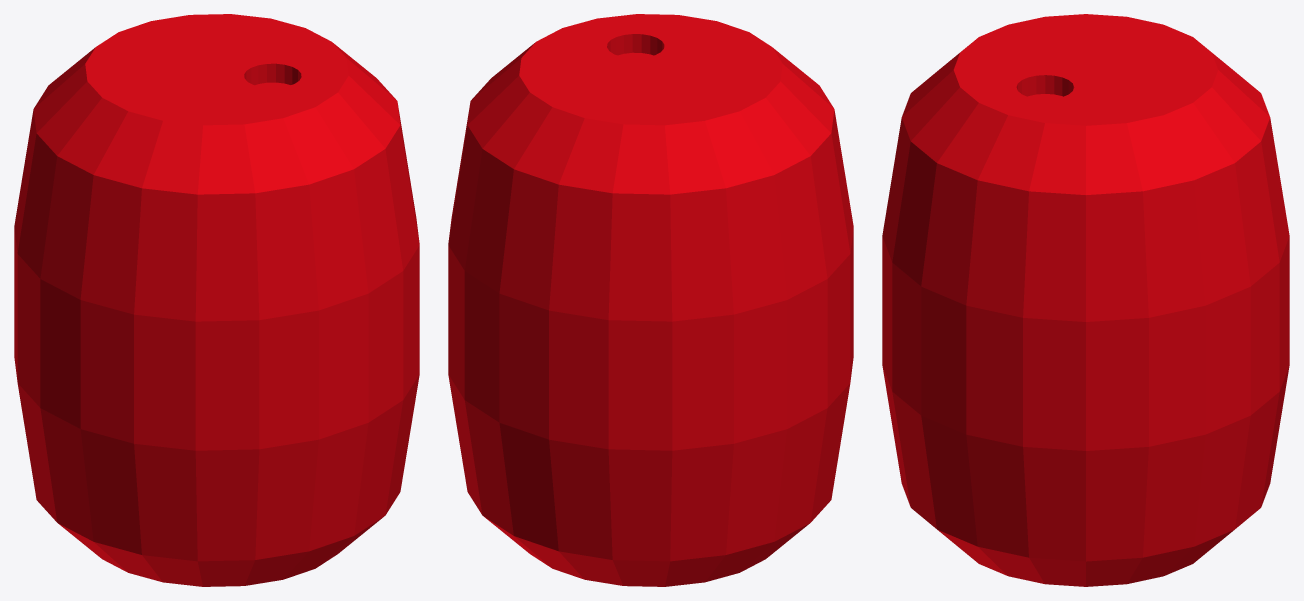
File: barrel.fbx
3 renders of one model, left to right at view 1: azimuth 30°, elevation 25°; view 2: azimuth 150°, elevation 25°; view 3: azimuth 270°, elevation 25°, orthographic.
Visible parts, largest first — view 1: barrel; view 2: barrel; view 3: barrel.
Part boxes in pixels (bbox=[...]): barrel: bbox=[14, 14, 419, 586]; barrel: bbox=[448, 14, 853, 586]; barrel: bbox=[882, 14, 1289, 586].
Bounding box in the file's own units: 30.29 × 30.29 × 37.83.
